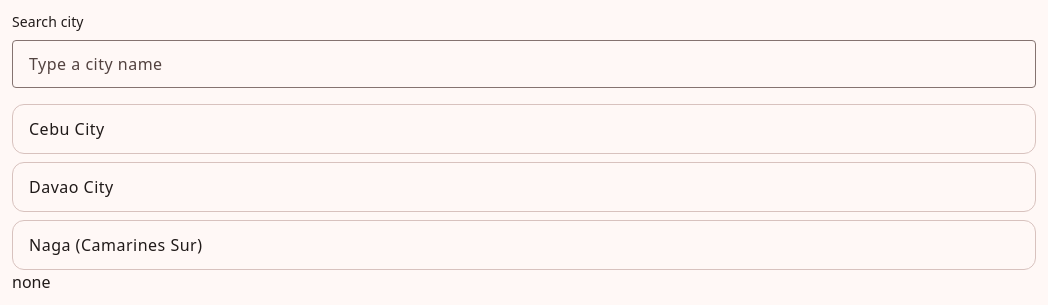
Scenario: CityPicker › says so when nothing matches, rather than showing an empty box
The image size is (1048, 305).
Expected: the radio button labelled "Cebu City" is shown, x1=12 y1=104 x2=1036 y2=154
Step 1. Type "Atlantis" into the field labelled "Search city" → [524, 64], box x1=12 y1=40 x2=1036 y2=88
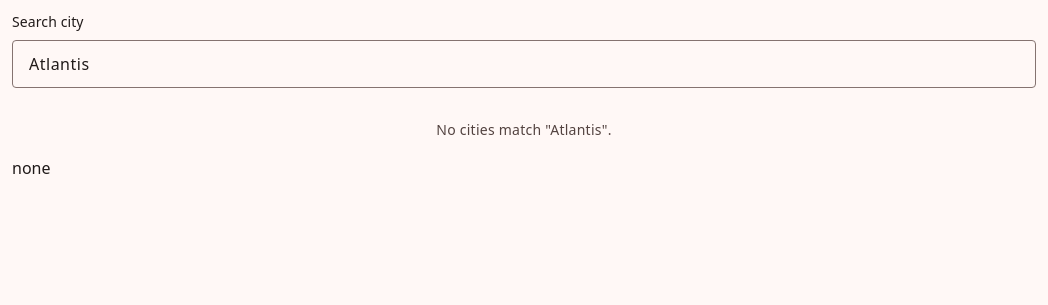
Now the text "No cities match \"Atlantis\"." is shown, box x1=436 y1=120 x2=612 y2=139
Now no radio buttons are shown
